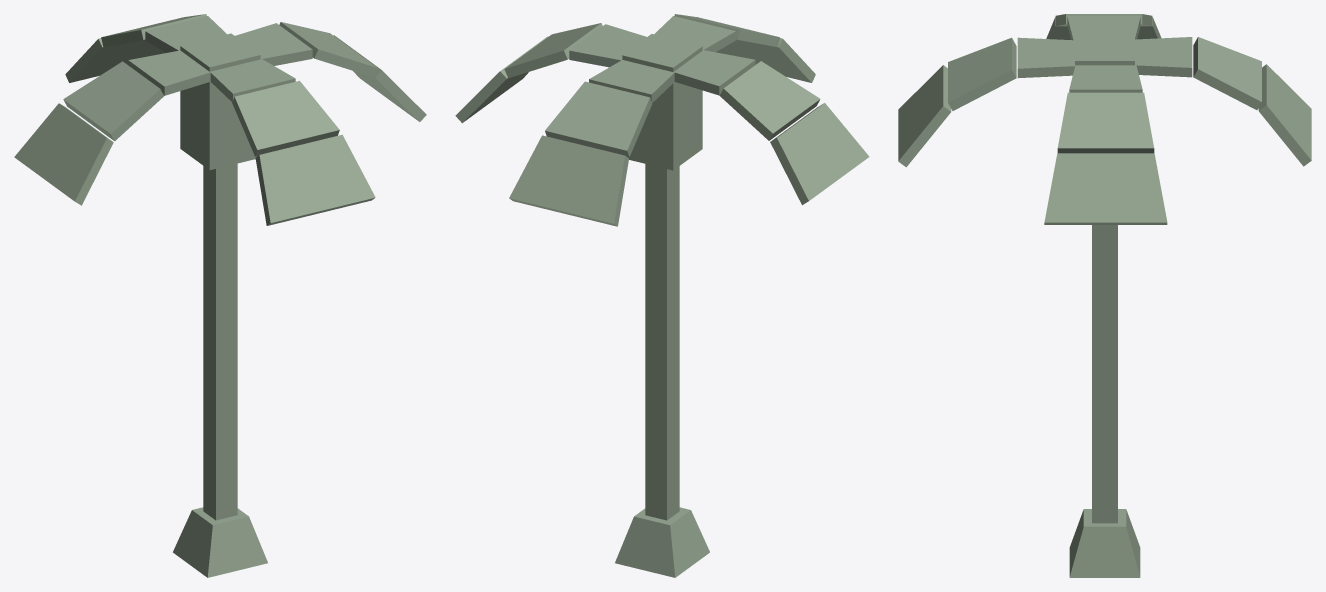
The model's file is palm_03.fbx.
3 renders of one model, left to right at view 1: azimuth 30°, elevation 25°; view 2: azimuth 150°, elevation 25°; view 3: azimuth 270°, elevation 25°, orthographic.
Parts seen in each view (by area): view 1: palm_03; view 2: palm_03; view 3: palm_03.
Part boxes in pixels (x1,y1,x2,y2): palm_03: [14, 14, 426, 577]; palm_03: [455, 14, 869, 577]; palm_03: [898, 14, 1311, 577].
Size of the model in its own units: 7.7 by 10.57 by 7.7.
